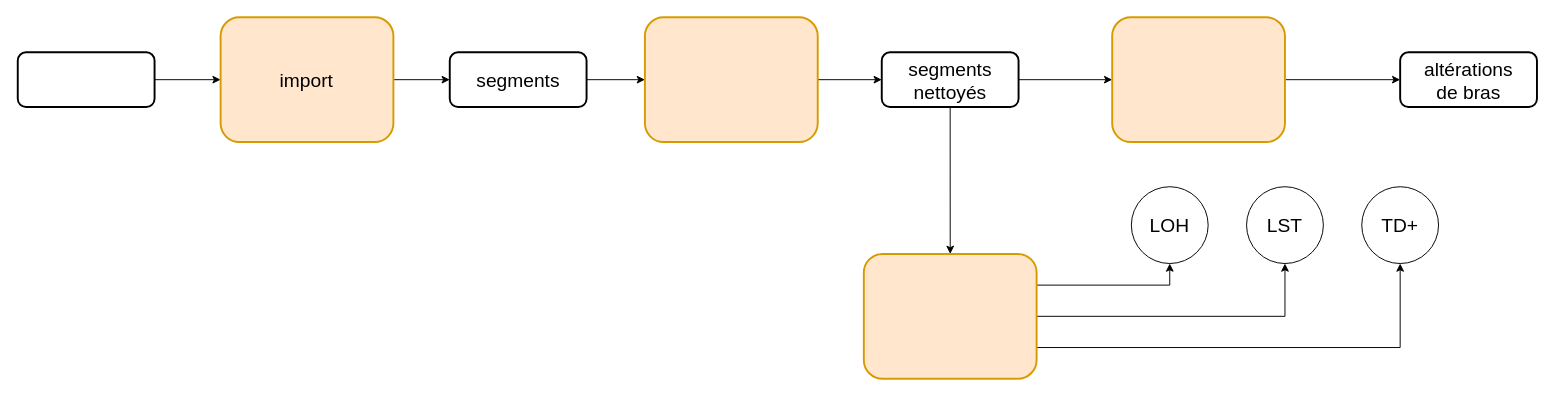
Image size: 1554x396. Some labels were removed from this diagram. The box of each missing label's shape, as (x1, y1, x2, y2) in pixels:
calcul de scores: (862, 252, 1037, 379)
calcul des altérations de bras: (1111, 16, 1285, 143)
fichier segments: (16, 51, 155, 108)
filtrage & lissage: (643, 16, 818, 143)
